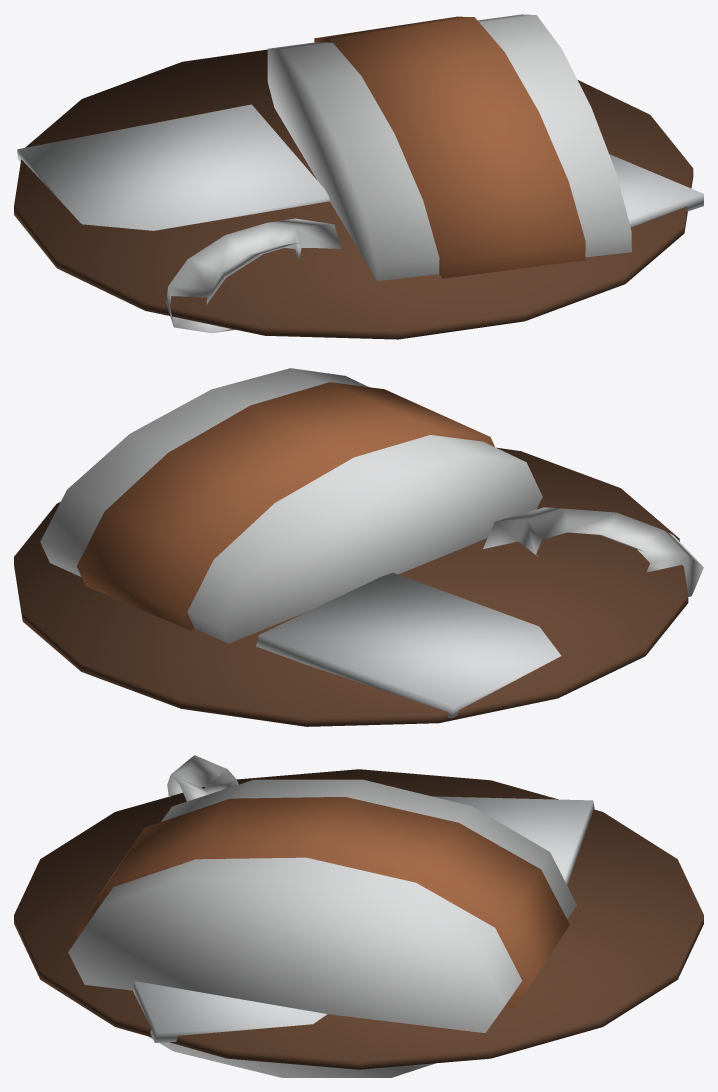
Rendered from coffee-cup-wreck.glb.
3 renders of one model, top to bottom at view 1: azimuth 30°, elevation 25°; view 2: azimuth 150°, elevation 25°; view 3: azimuth 270°, elevation 25°, orthographic.
Parts seen in each view (by area): view 1: world; view 2: world; view 3: world.
Part boxes in pixels (x1=…): world: x1=14, y1=14, x2=703, y2=339; world: x1=14, y1=368, x2=703, y2=726; world: x1=14, y1=755, x2=703, y2=1077.
Bounding box in the file's own units: 3.8 × 1.2 × 3.8.
